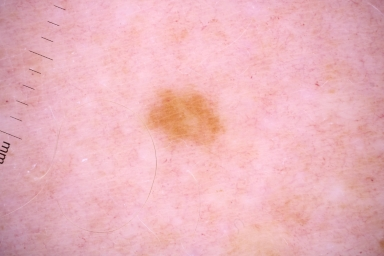melanoma: (148, 90, 226, 142)
